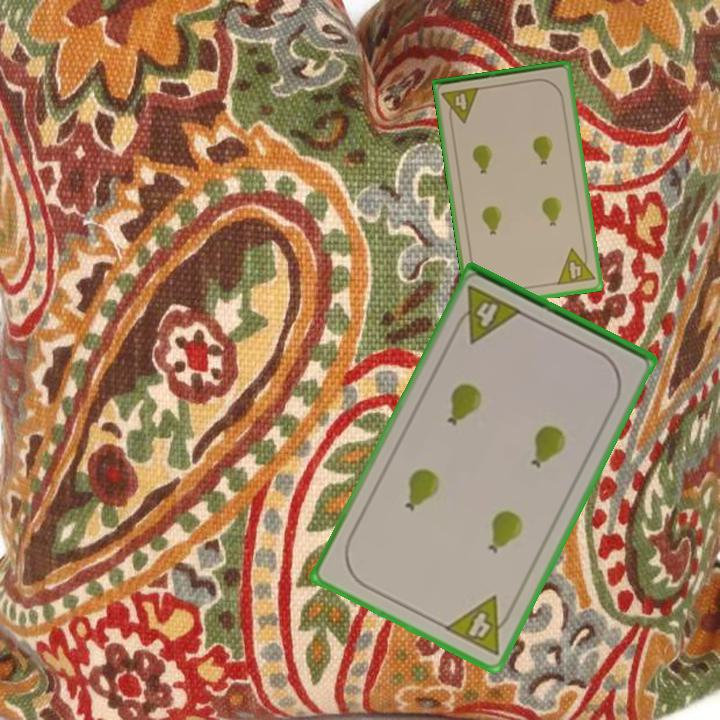4p: (441, 592, 518, 659), (449, 282, 525, 347), (553, 243, 597, 288), (438, 84, 483, 127)
